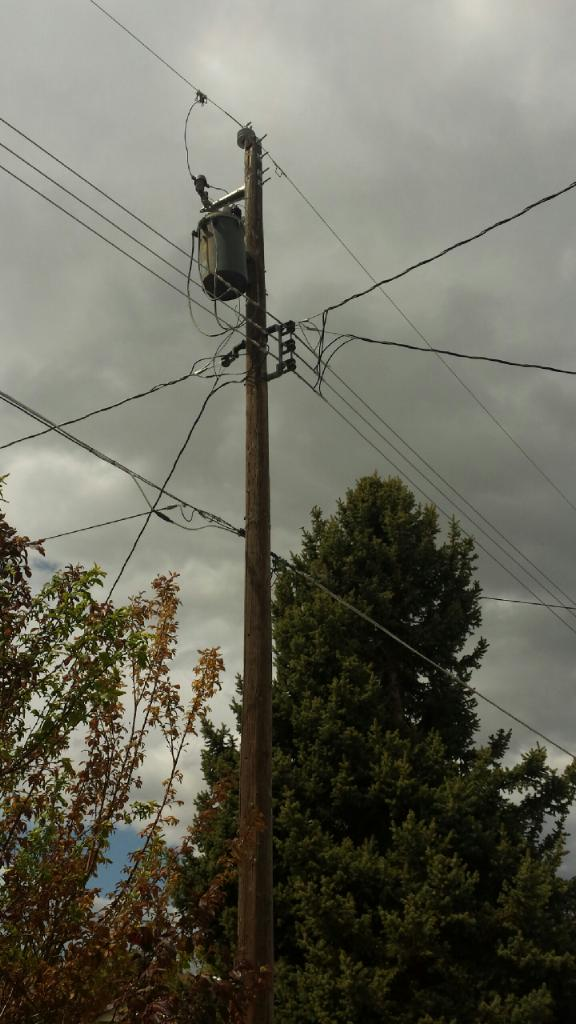utility_pole: (177, 113, 314, 396)
